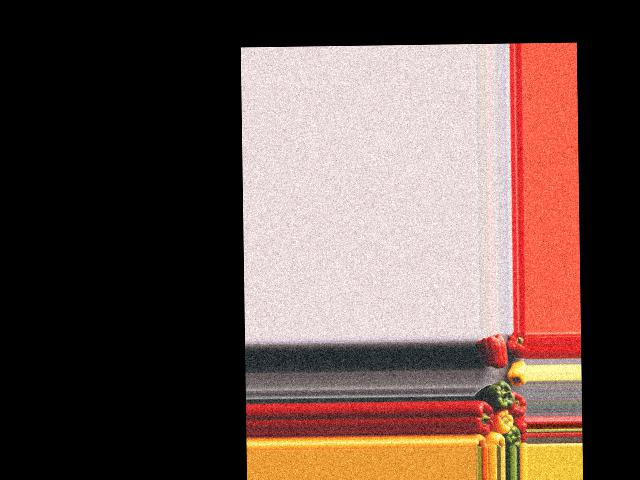bell_pepper: (508, 331, 524, 358)
